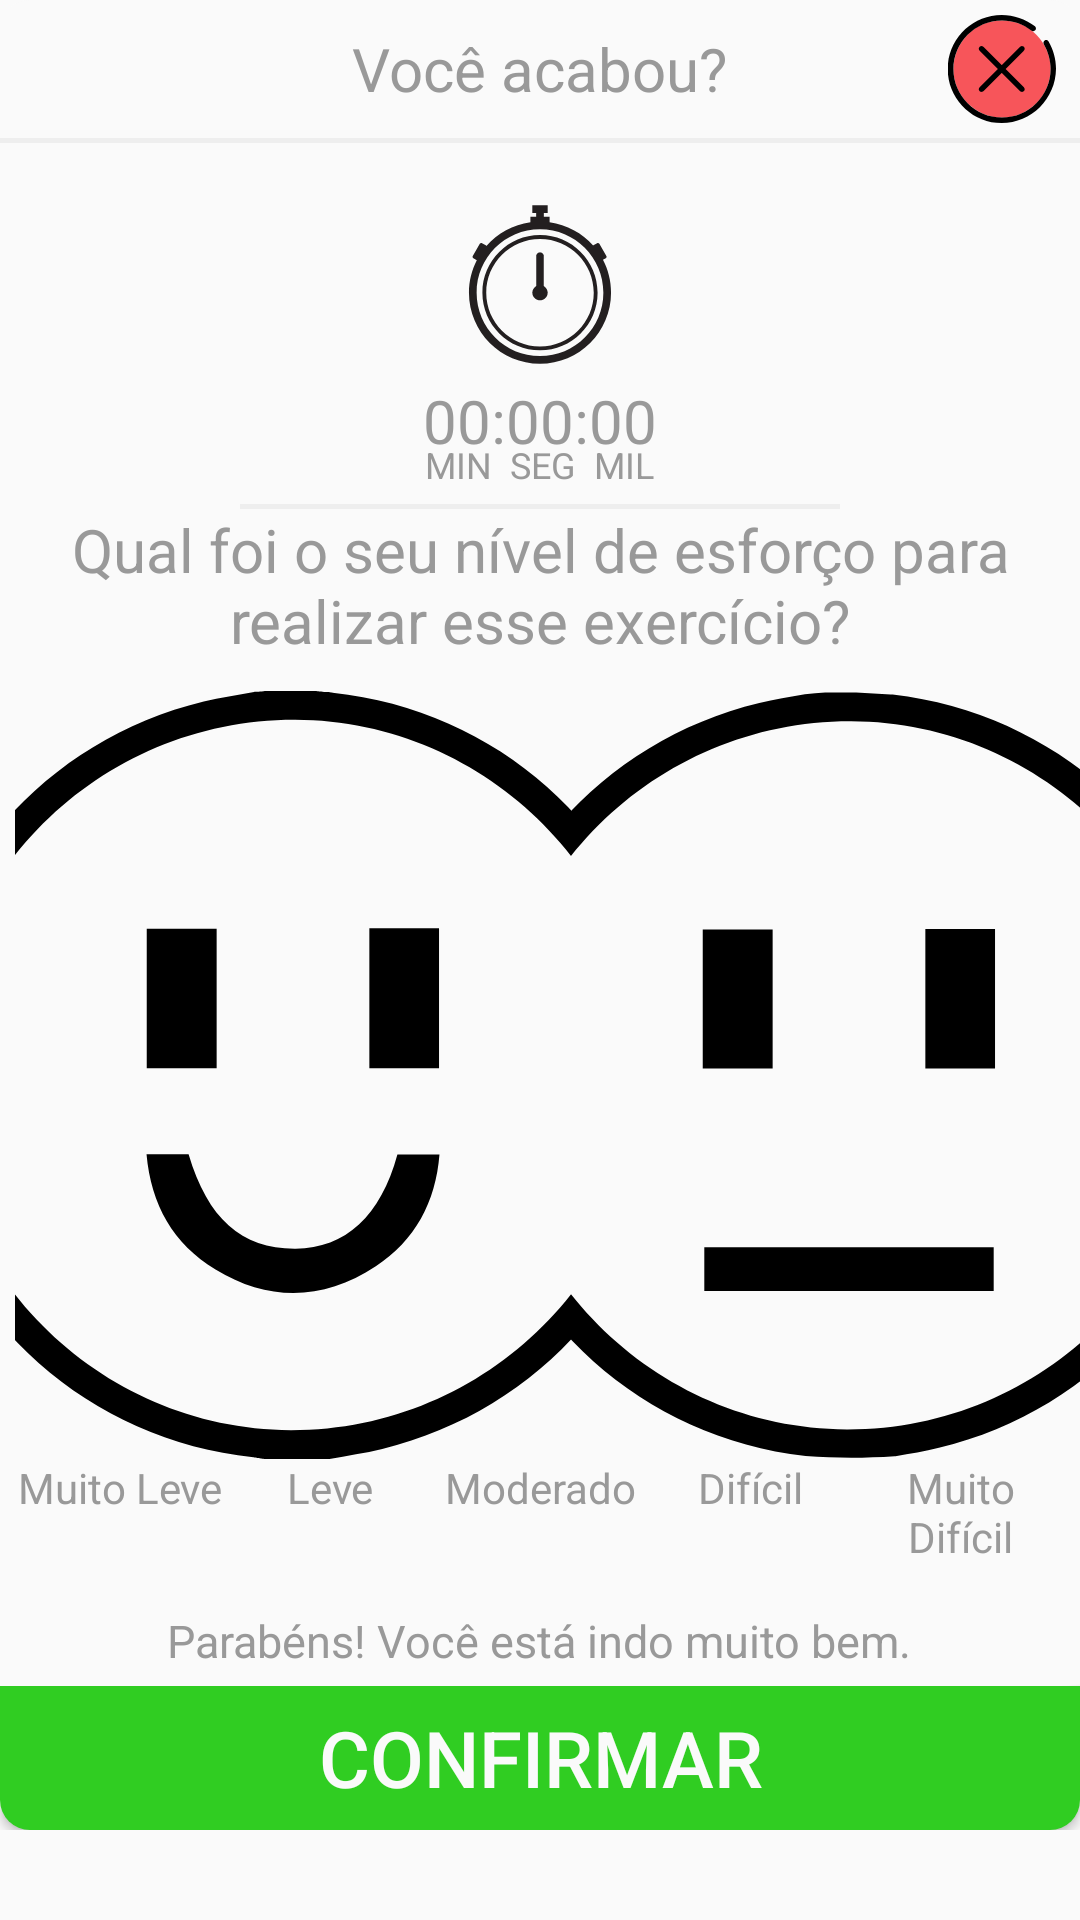

Icon bounding boxes for this 1080*1920 phone screenshot, format (x1, y1, x2, y2):
close: (948, 15, 1056, 123)
stopwatch: (469, 205, 611, 364)
